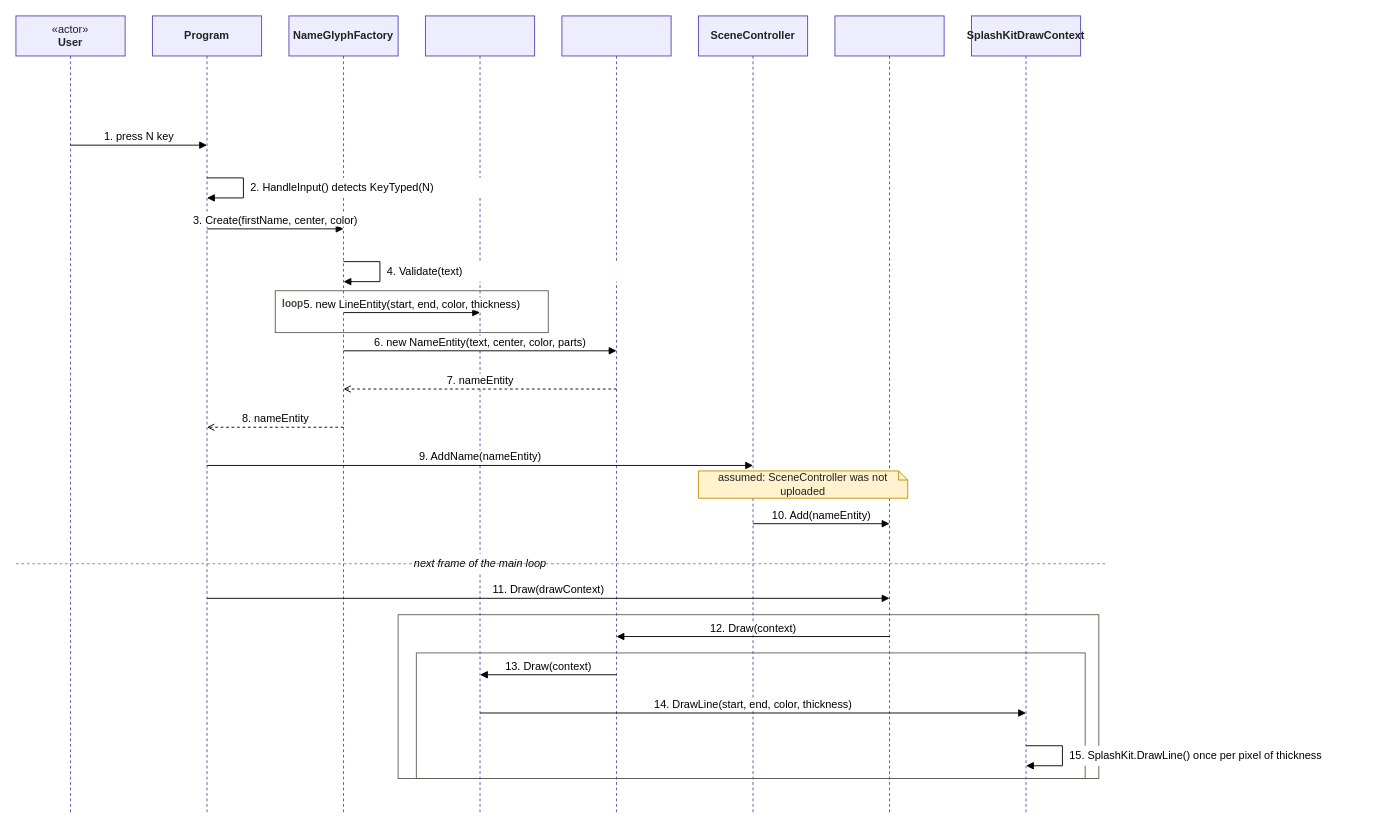
Image size: 1384x829. Some labels were removed from this diagram. The shapes that lost their labels are listed below. From the top down, each one's box as (x1, y1, x2, y2) in pixels, then its label:
(425, 15, 535, 813): LineEntity
(561, 15, 671, 813): NameEntity
(834, 15, 944, 813): Scene
(397, 614, 1099, 779): loop [each entity in scene]
(415, 652, 1085, 779): loop [each child part]
